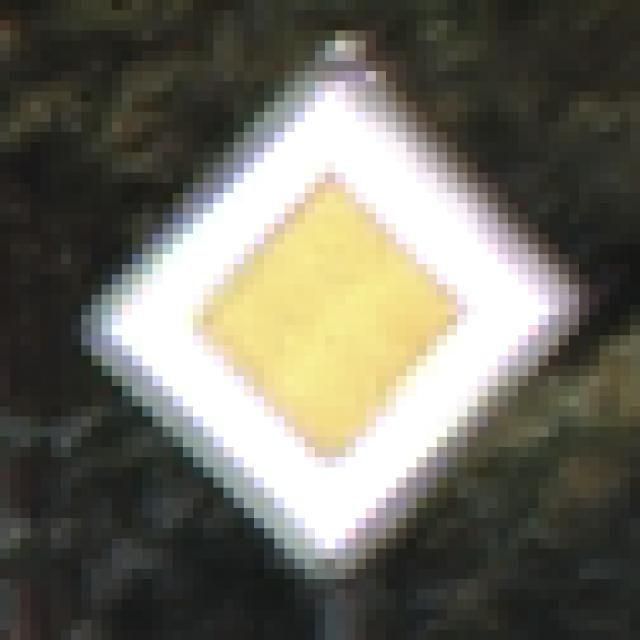Main Road: (62, 52, 590, 590)
